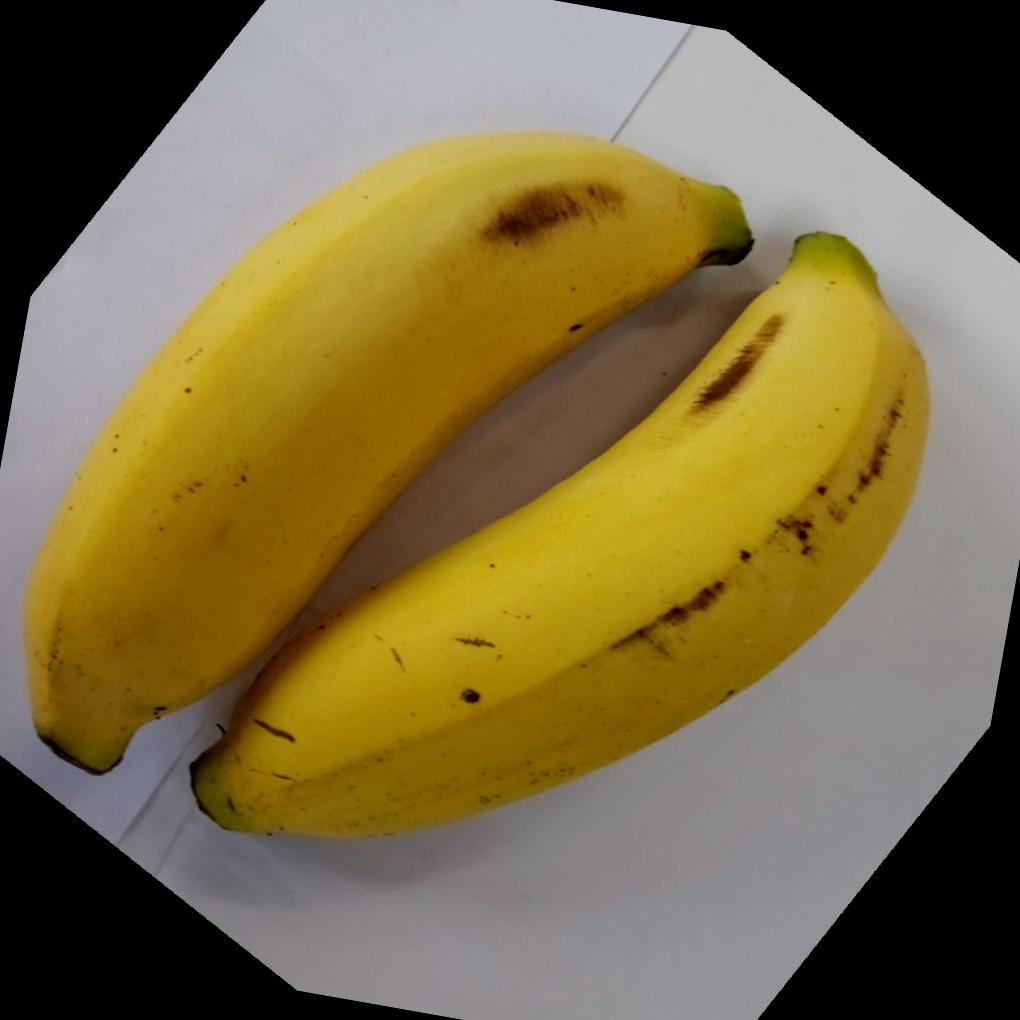Banana Ripe: (203, 100, 976, 1016), (0, 51, 766, 957)
